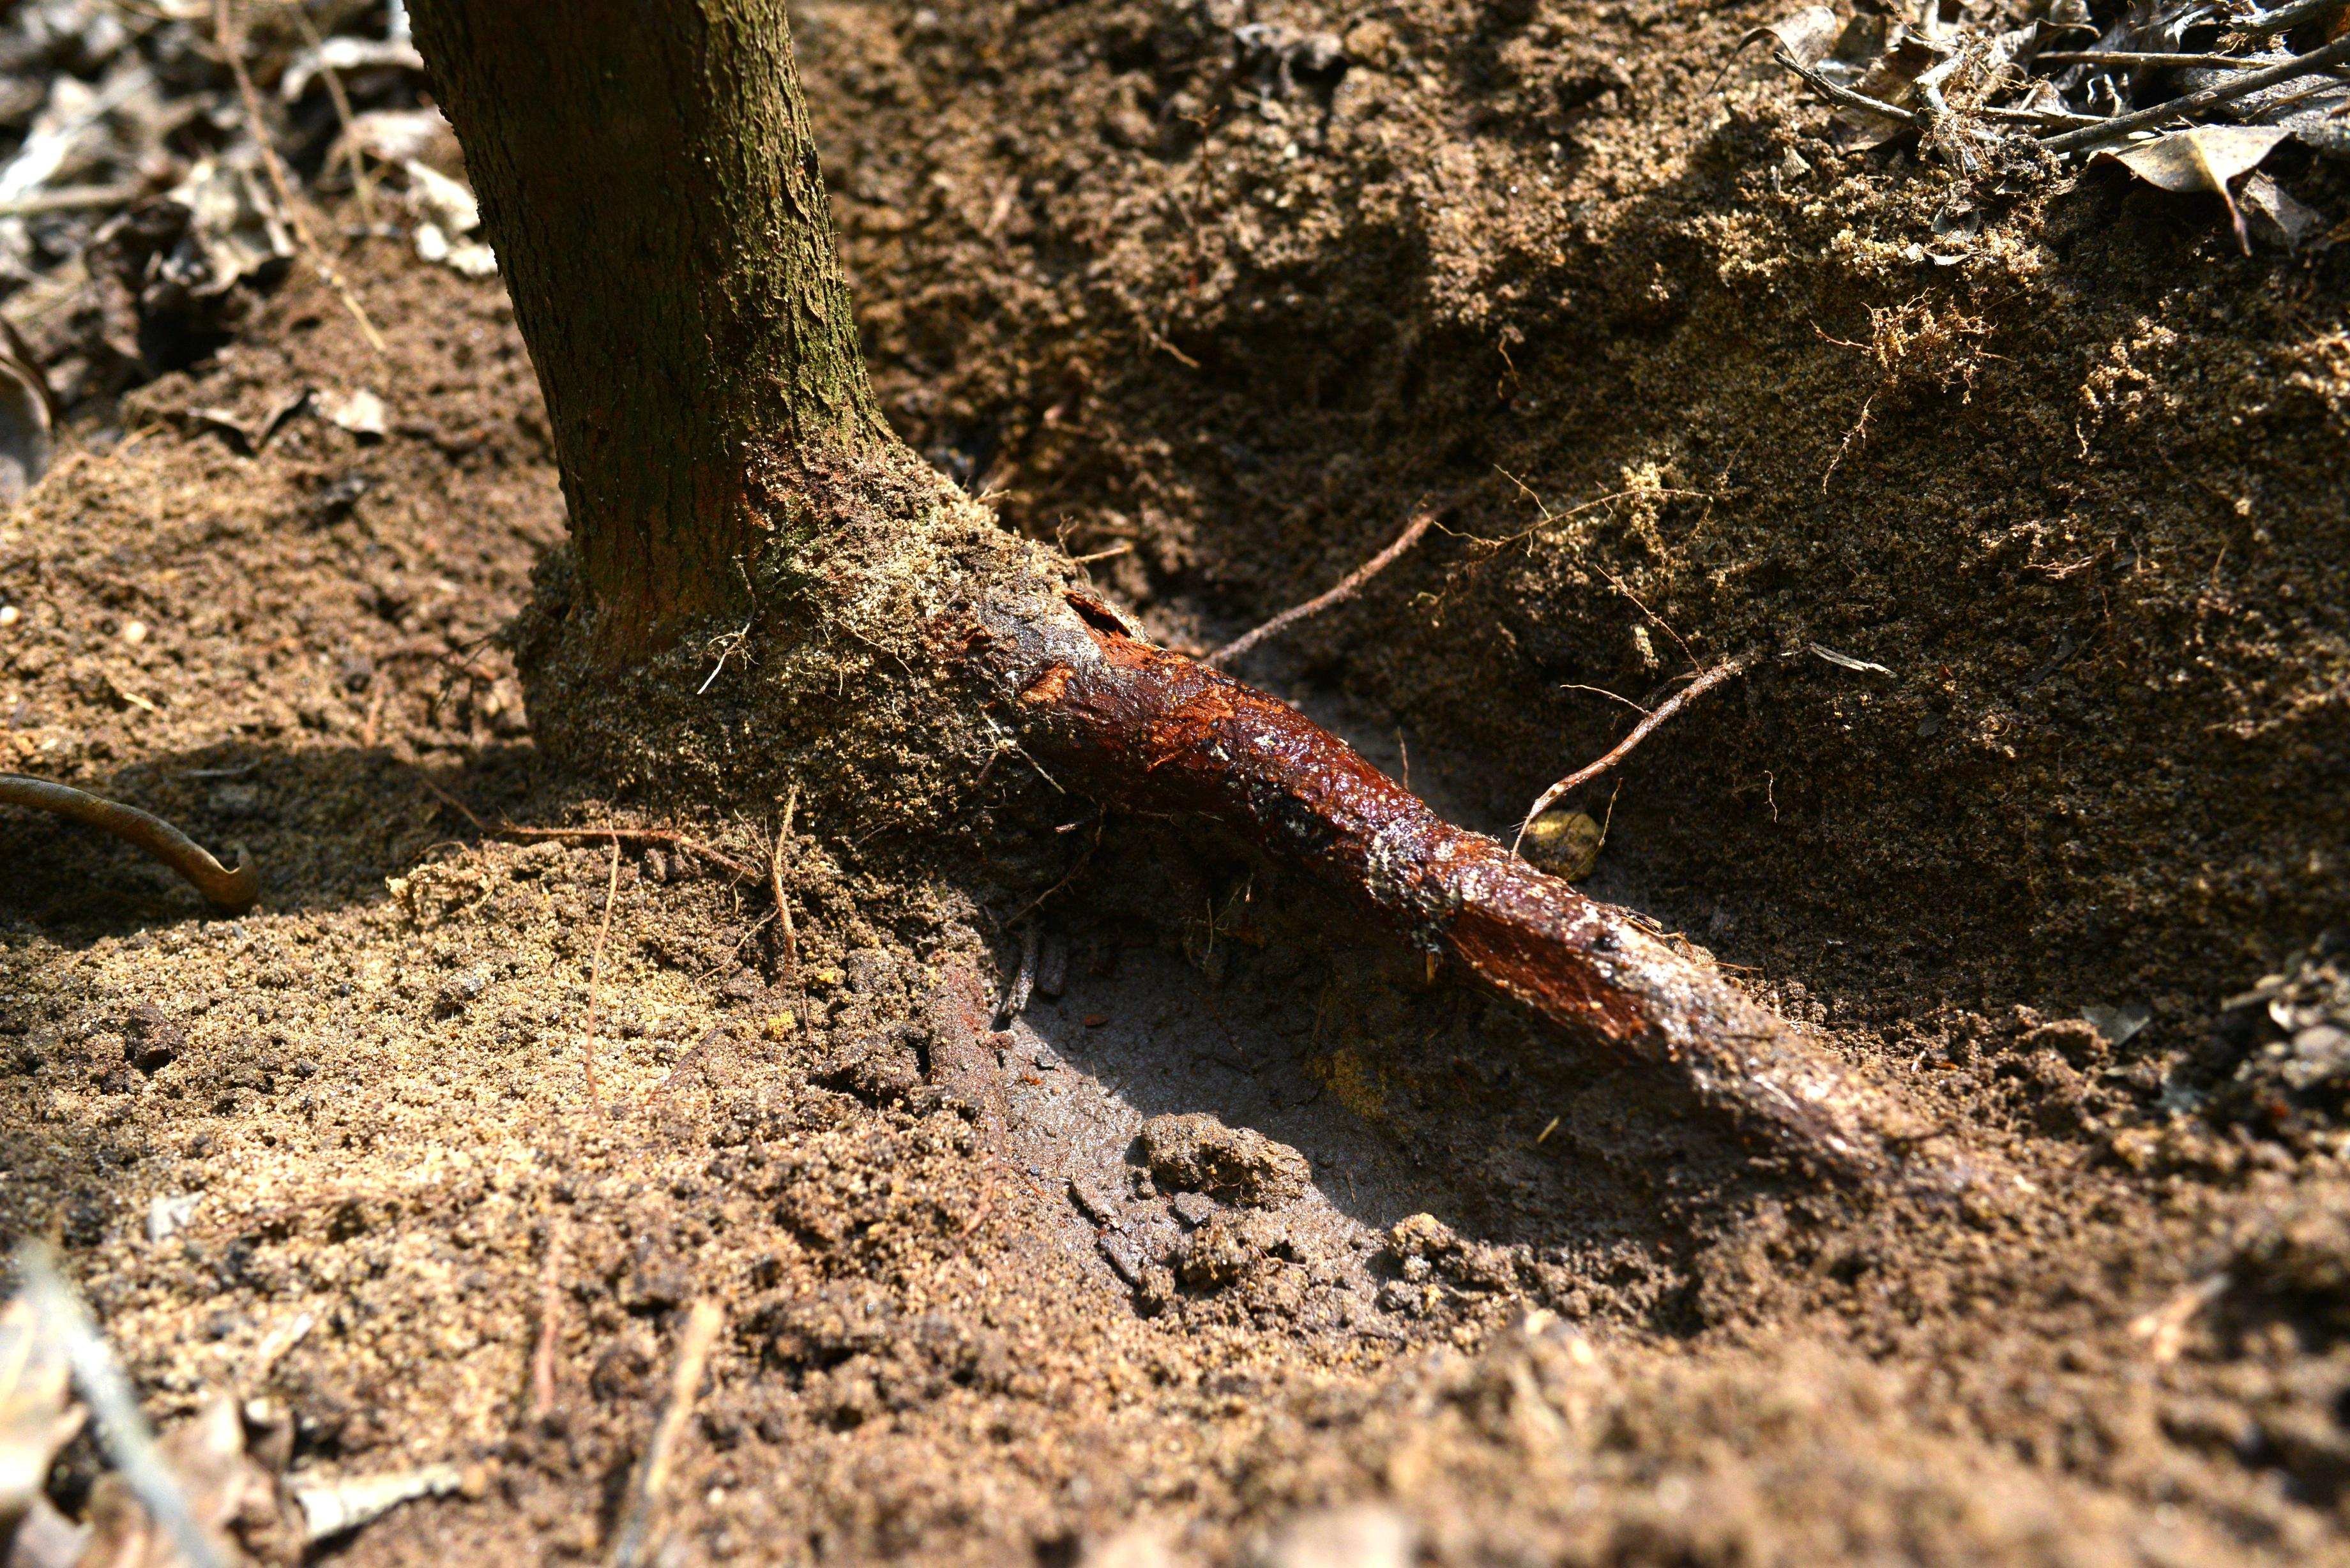Red Root Rot - Secretion: (1095, 597, 1647, 1125)
